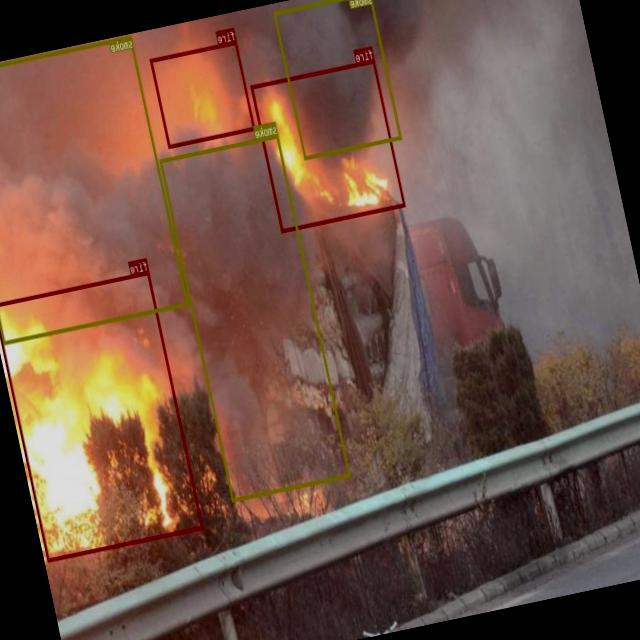fire: (0, 269, 204, 560), (251, 58, 406, 232), (150, 39, 256, 148)
smoke: (160, 133, 350, 501), (0, 34, 188, 343), (273, 0, 402, 158)
